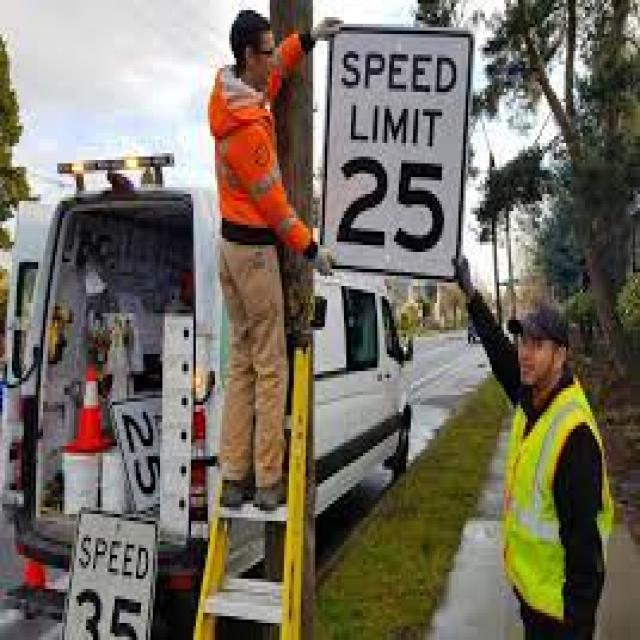speedLimit25: (321, 17, 460, 283)
